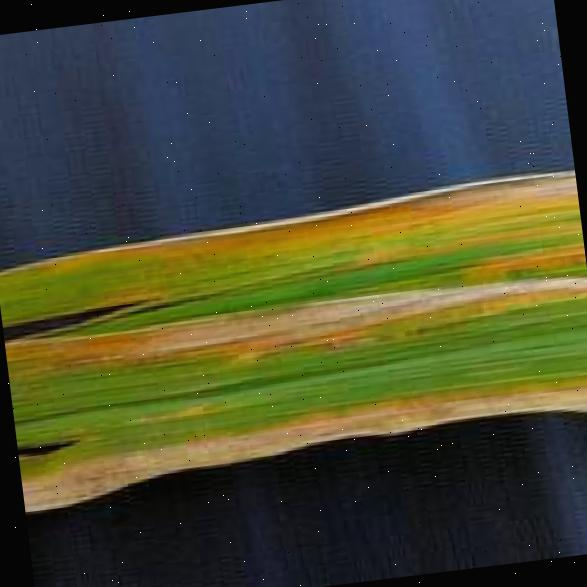Bacteria_Leaf_Blight: (4, 170, 587, 486)
